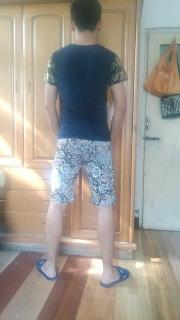short sleeve top: (43, 44, 128, 141)
shorts: (50, 128, 116, 206)
